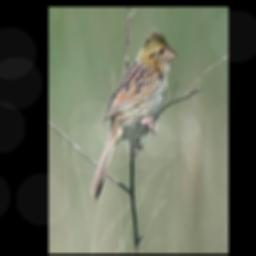Sparrow: (87, 27, 179, 205)
